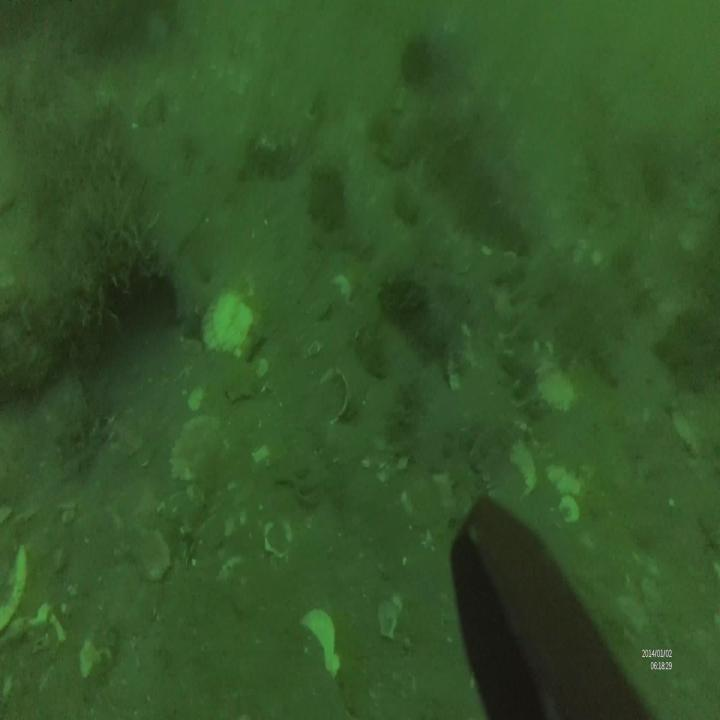echinus: (400, 31, 437, 86)
scallop: (197, 276, 269, 365)
